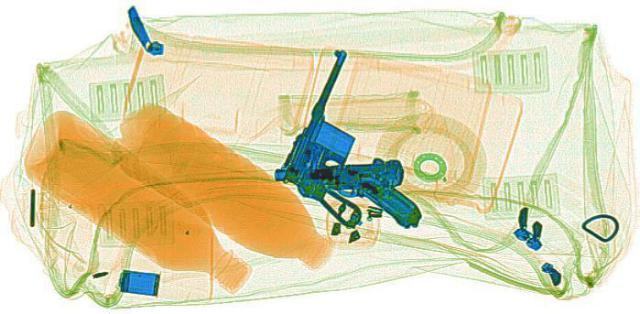Gun: (264, 47, 404, 225), (267, 154, 418, 226)
